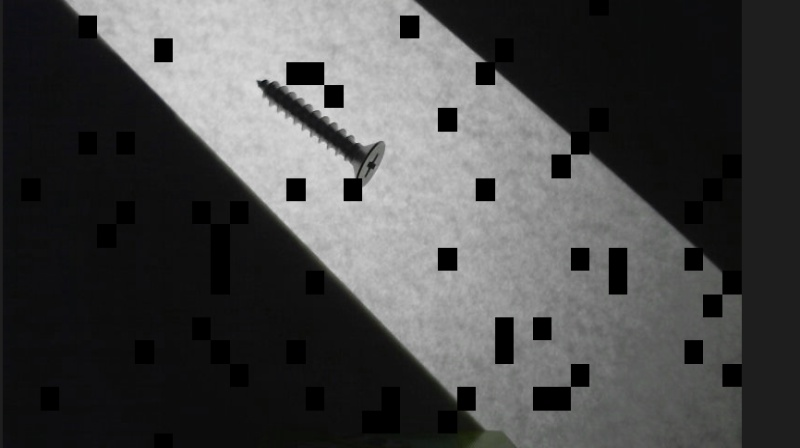S001: (255, 73, 388, 189)
